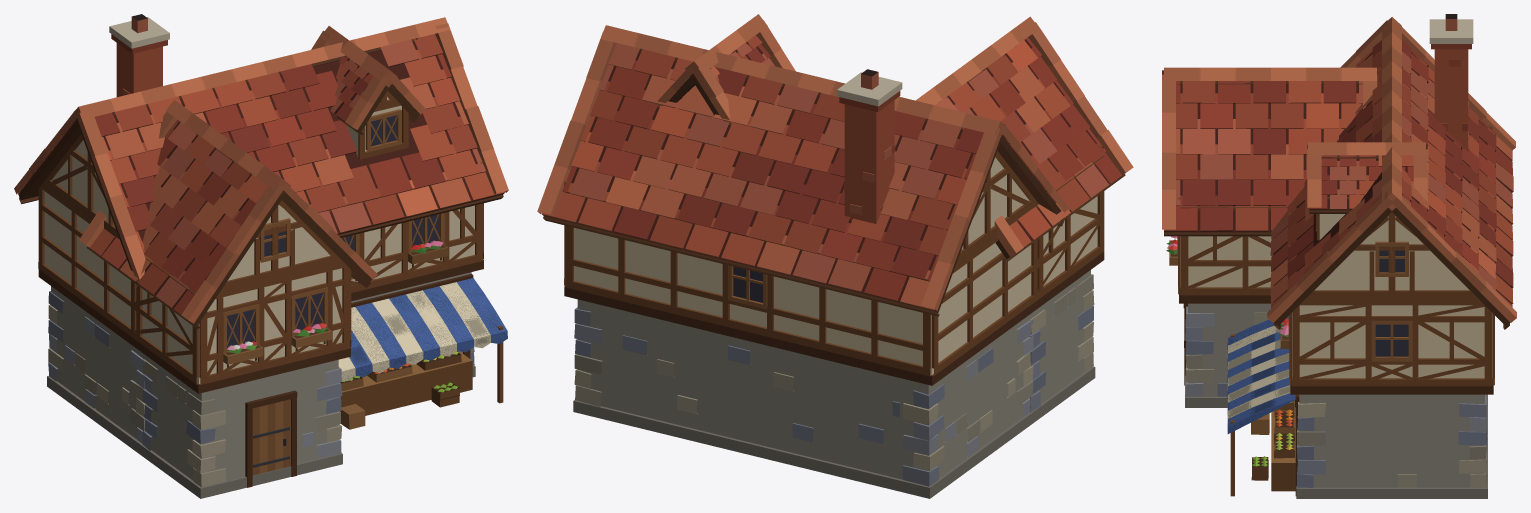
Rendered from town_house_corner.glb.
The picture shows the model from 3 angles, left to right: view 1: azimuth 30°, elevation 25°; view 2: azimuth 150°, elevation 25°; view 3: azimuth 270°, elevation 25°; orthographic projection. The views are drawn at different scales.
Parts seen in each view (by area): view 1: town_house_corner; view 2: town_house_corner; view 3: town_house_corner.
Part boxes in pixels (<box>): town_house_corner: <box>14,14,508,498</box>; town_house_corner: <box>537,14,1133,498</box>; town_house_corner: <box>1162,14,1516,498</box>.
Size of the model in its own units: 11.47 by 10.68 by 9.57.
